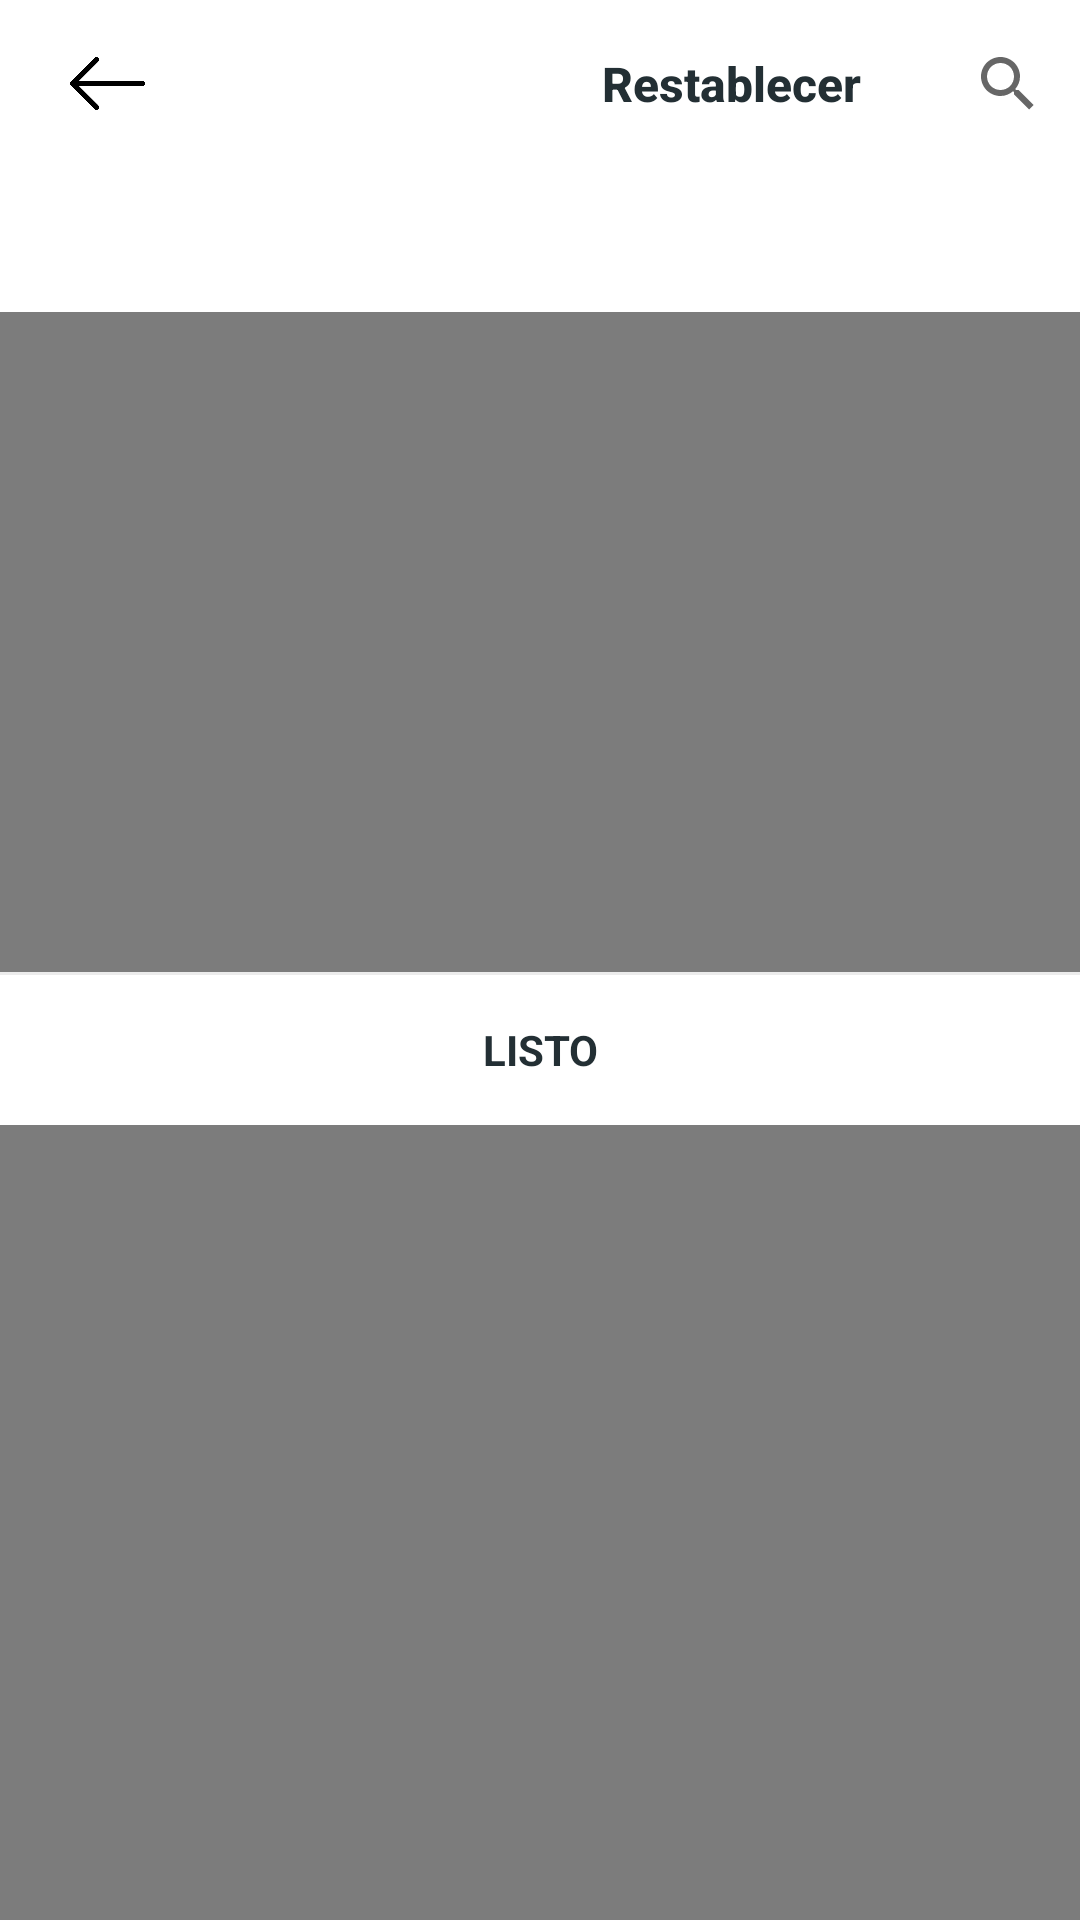

Screen size 1080px×1920px. Icon name, then its box in pixels as [x1=x1, y1=y1, x2=x2, y2=y2]:
back: [x1=70, y1=57, x2=145, y2=110]
